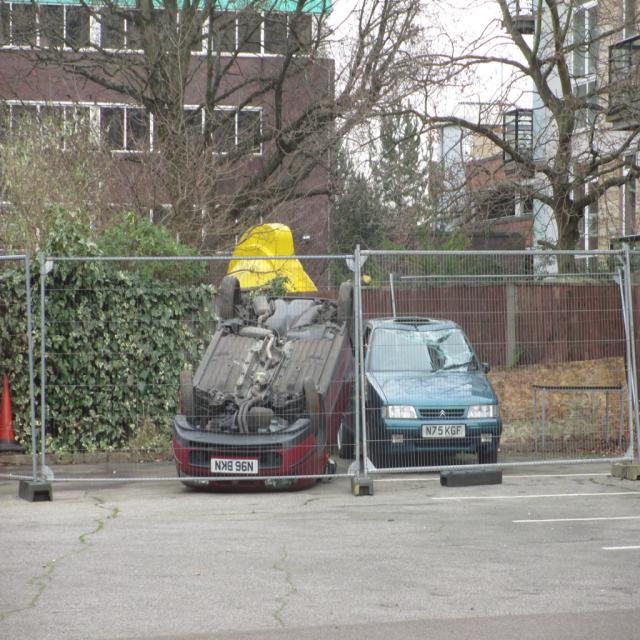car: (340, 305, 493, 483)
